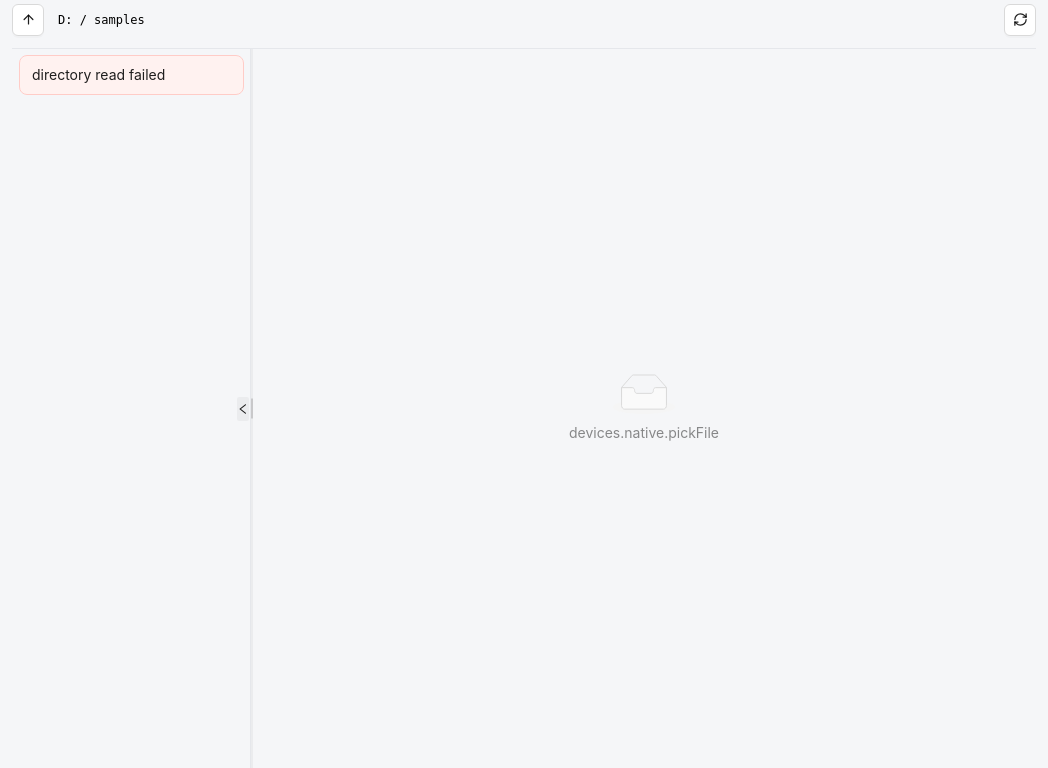
Test: native directory request states › does not present pending or failed reads as an empty directory, and retries successfully
The width and height of the screenshot is (1048, 768).
Expected: the message "directory read failed" is shown, top-left (19, 55), bottom-right (244, 95)
Click the button named "common.refresh": (1020, 20) top-left (1004, 4), bottom-right (1036, 36)
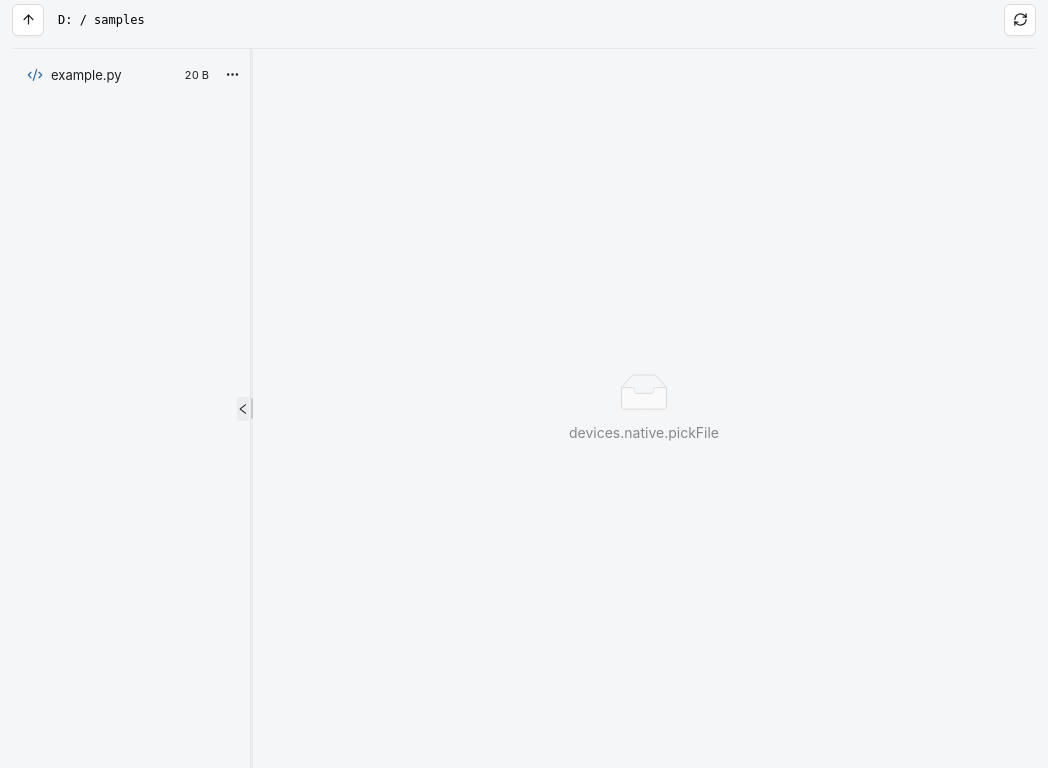
Expected: the text "example.py" is shown, top-left (51, 67), bottom-right (122, 83)
Expected: the message "directory read failed" is gone
